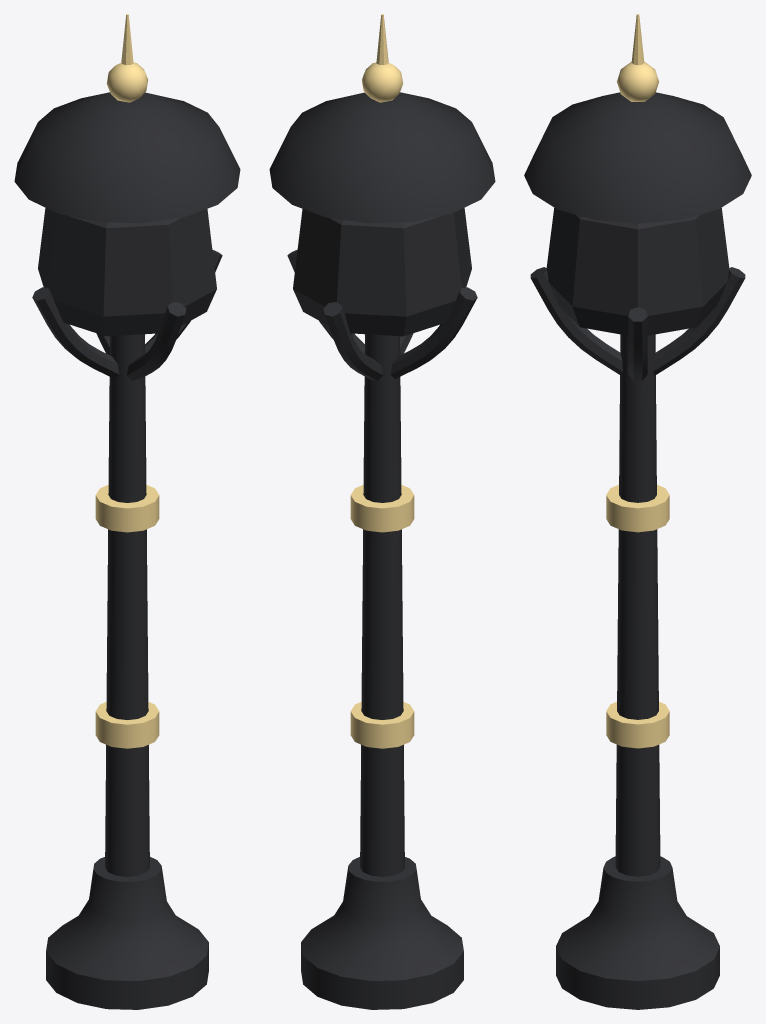
File: ench_lamp.fbx
3 views of the same model, side by side, from view 1: azimuth 30°, elevation 25°; view 2: azimuth 150°, elevation 25°; view 3: azimuth 270°, elevation 25° (orthographic).
Visible parts, largest first — view 1: iron_1, gold_1; view 2: iron_1, gold_1; view 3: iron_1, gold_1.
Part boxes in pixels (bbox=[...]): iron_1: bbox=[14, 92, 240, 1009]; gold_1: bbox=[95, 14, 159, 748]; iron_1: bbox=[269, 92, 495, 1009]; gold_1: bbox=[350, 14, 414, 748]; iron_1: bbox=[524, 92, 751, 1009]; gold_1: bbox=[606, 14, 669, 748].
Bounding box in the file's own units: 0.172 × 0.8 × 0.172.
